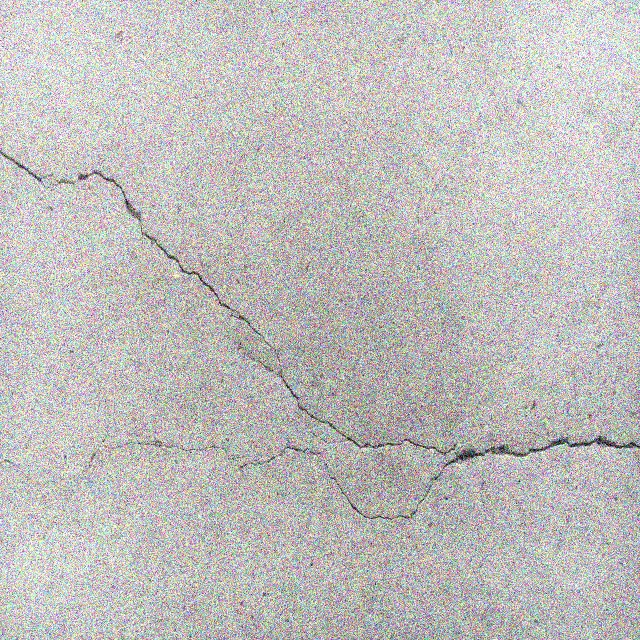SurfaceCrack: (1, 9, 639, 520)
